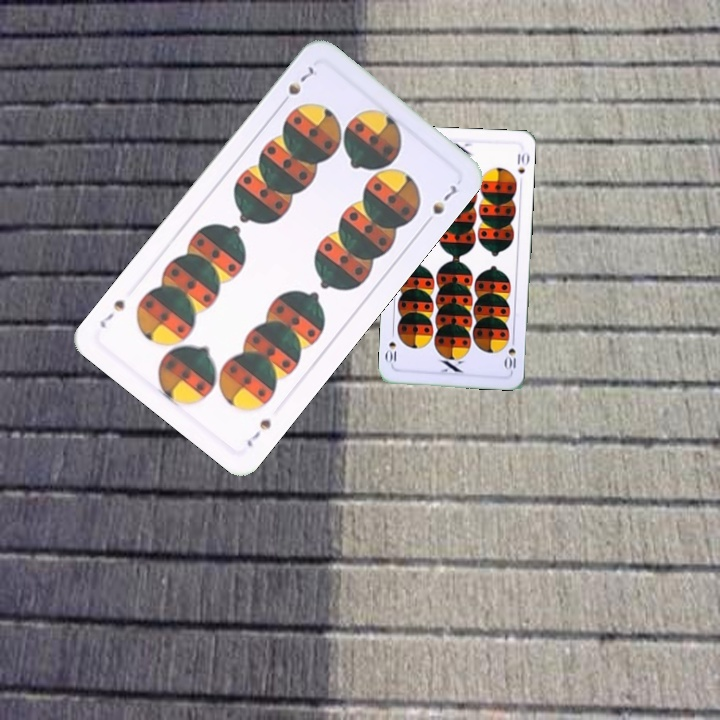S10: (502, 333, 518, 374)
S7: (275, 62, 317, 109), (242, 415, 274, 450)
